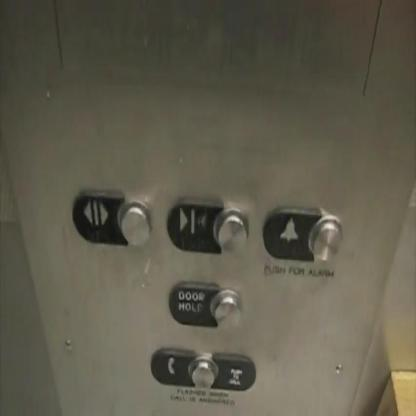alarm: (262, 205, 343, 264)
call: (150, 345, 258, 394)
close: (165, 195, 250, 257)
open: (71, 187, 156, 252)
text: (168, 278, 247, 332)
